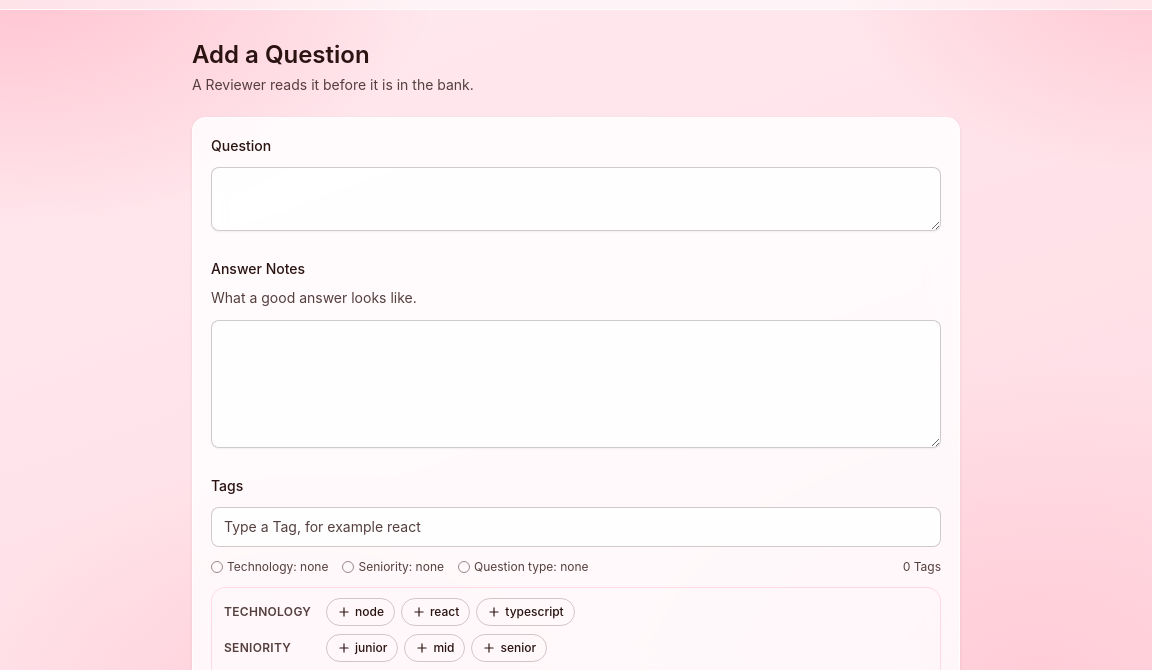
Test case: naming a new Question's Clients › sends every Client chosen
This screenshot has width=1152, height=670.
Type "How would you migrate it?" into the text box labelled "Question" at (576, 199), box x1=211 y1=167 x2=941 y2=231
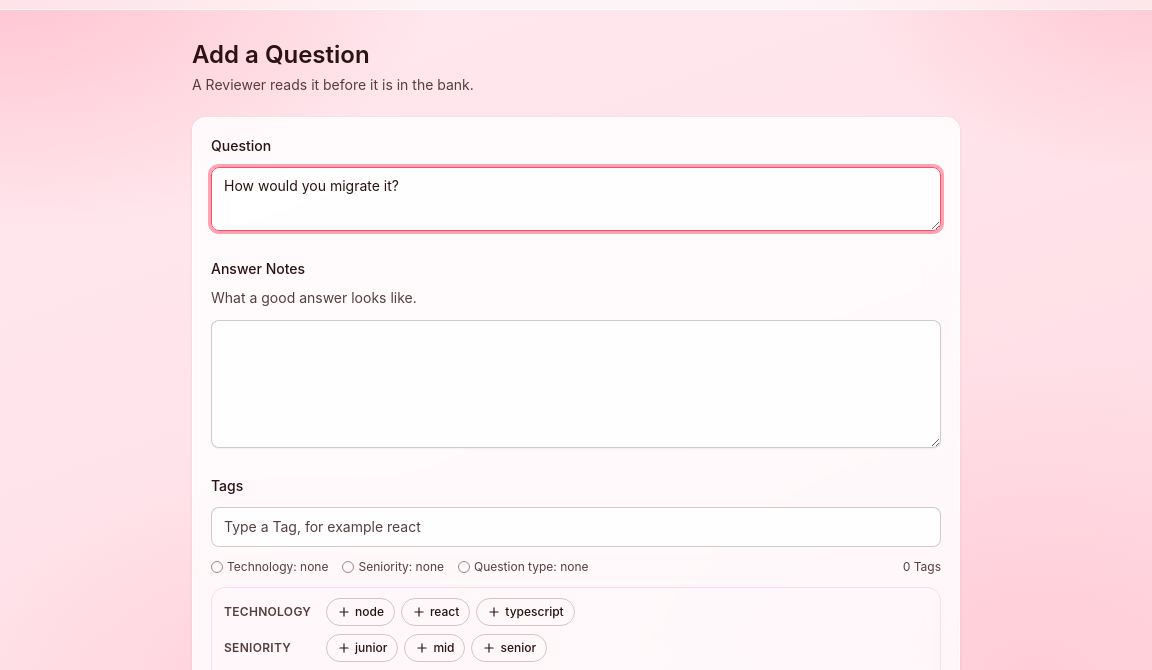
Type "Move one report at a time." into the text box labelled "Answer Notes" at (576, 384), box x1=211 y1=320 x2=941 y2=448
(page scrolled)
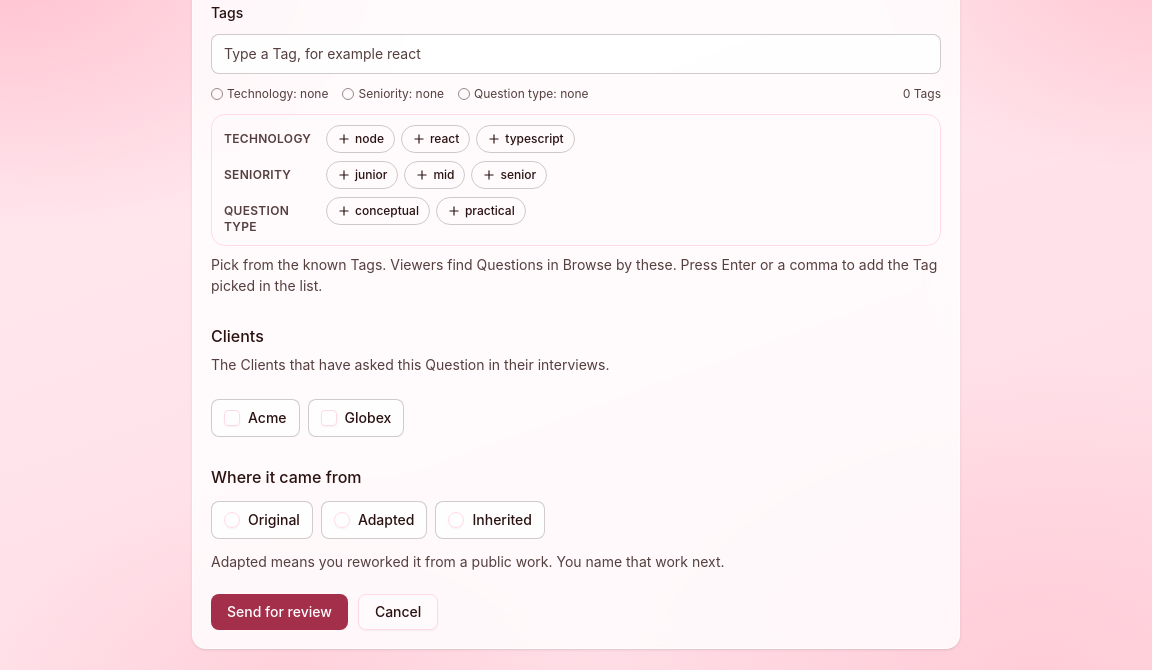
Click the radio button named "Original" next to "Original" at (232, 520), box x1=224 y1=512 x2=240 y2=528
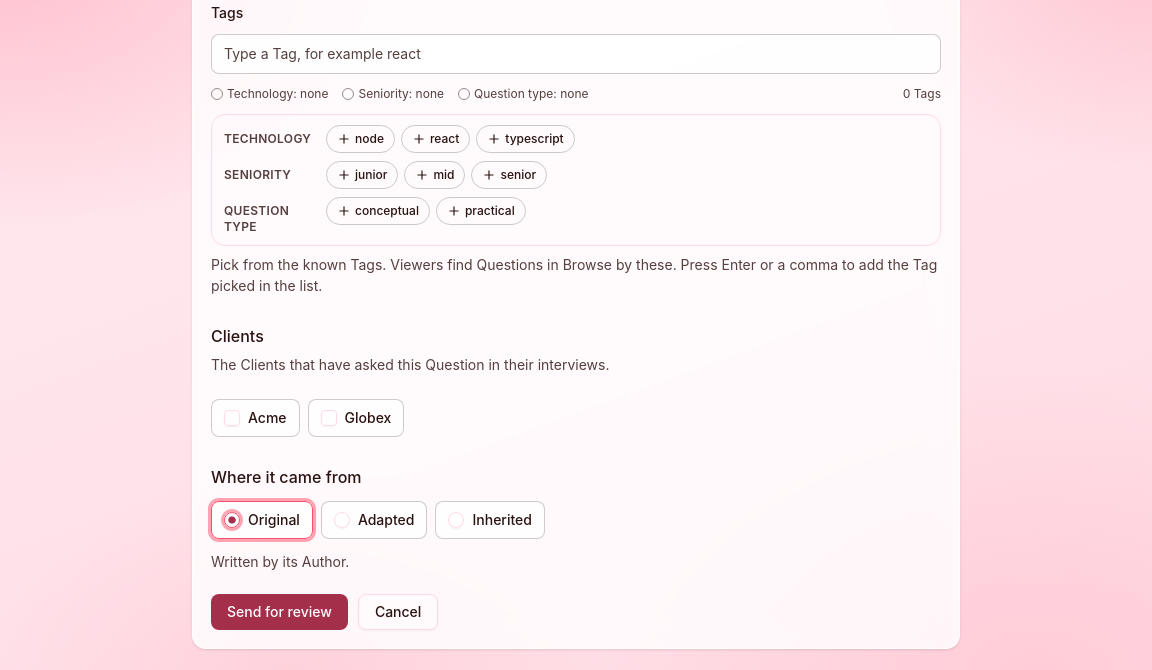
Click the checkbox named "Globex" next to "Globex" at (329, 418), box x1=321 y1=410 x2=337 y2=426
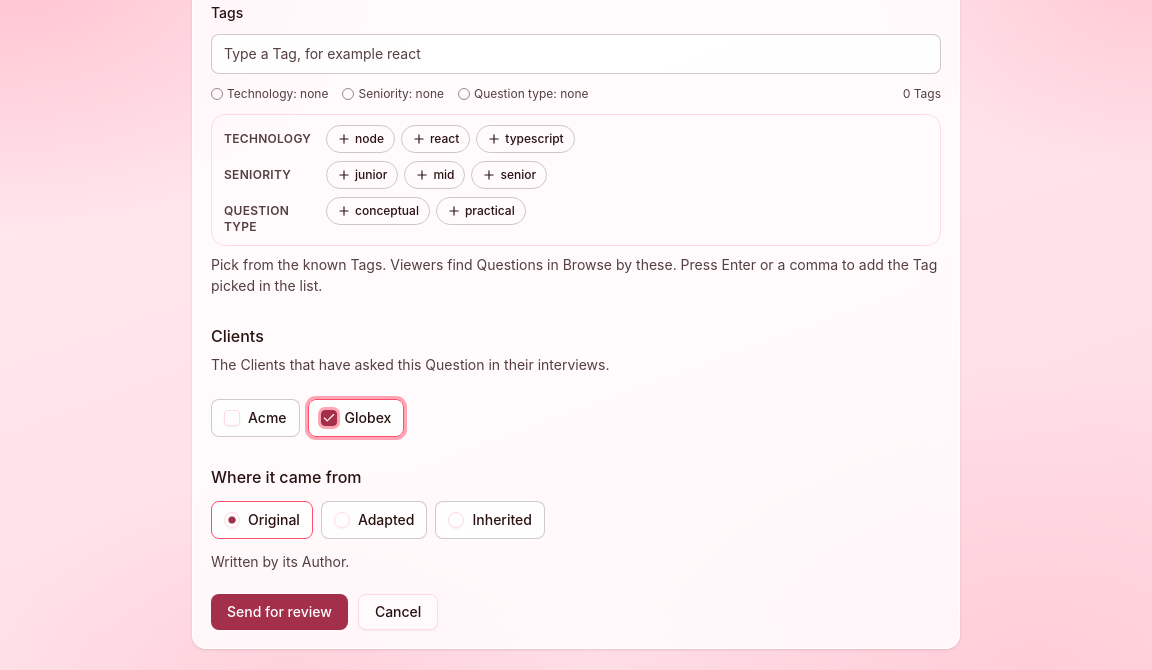
Click the checkbox named "Acme" next to "Acme" at (232, 418), box x1=224 y1=410 x2=240 y2=426
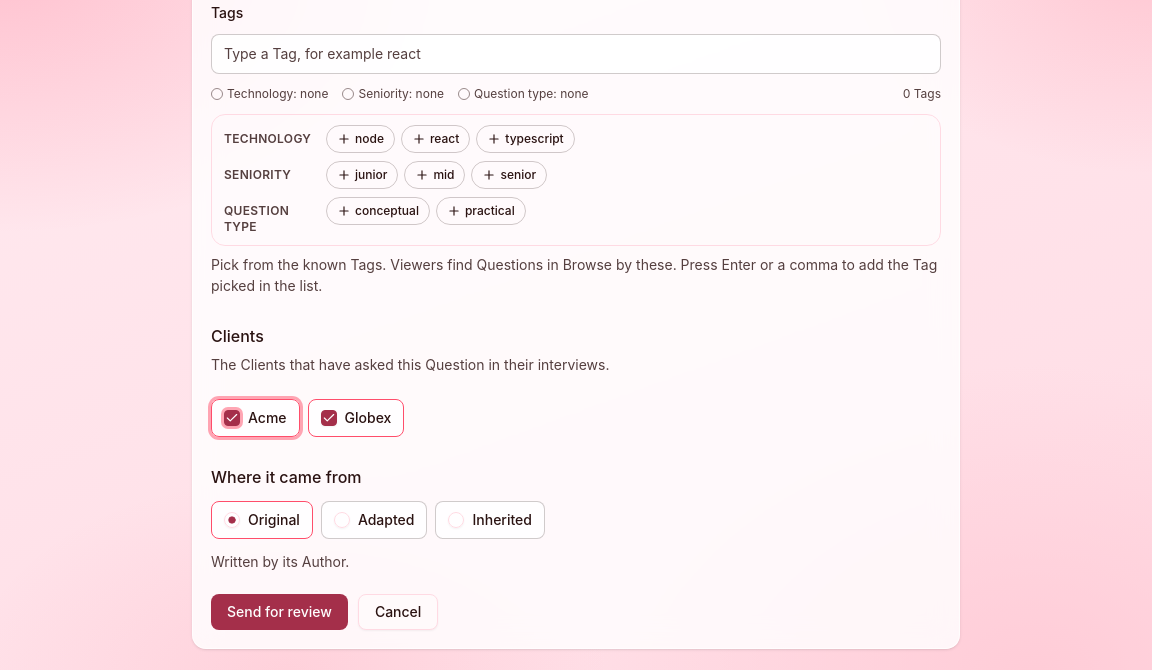
Click the button "Send for review" at (279, 612), box x1=211 y1=594 x2=348 y2=630
(page scrolled)
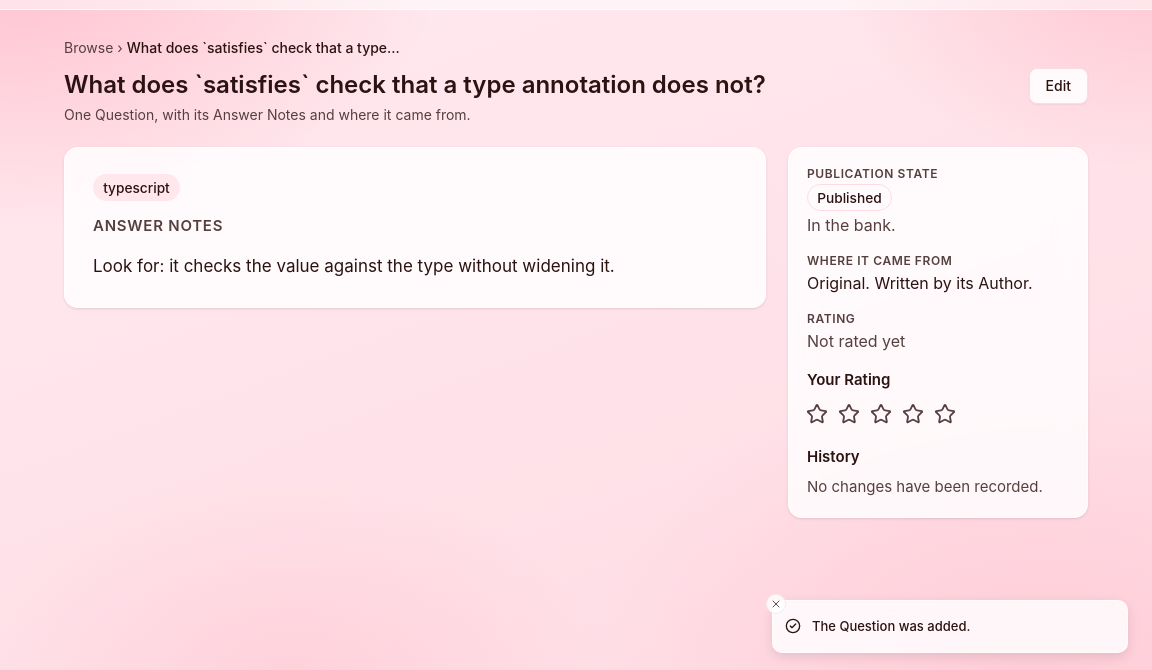
Result: the heading "What does `satisfies` check that a type annotation does not?" is shown at x1=64 y1=70 x2=766 y2=99
